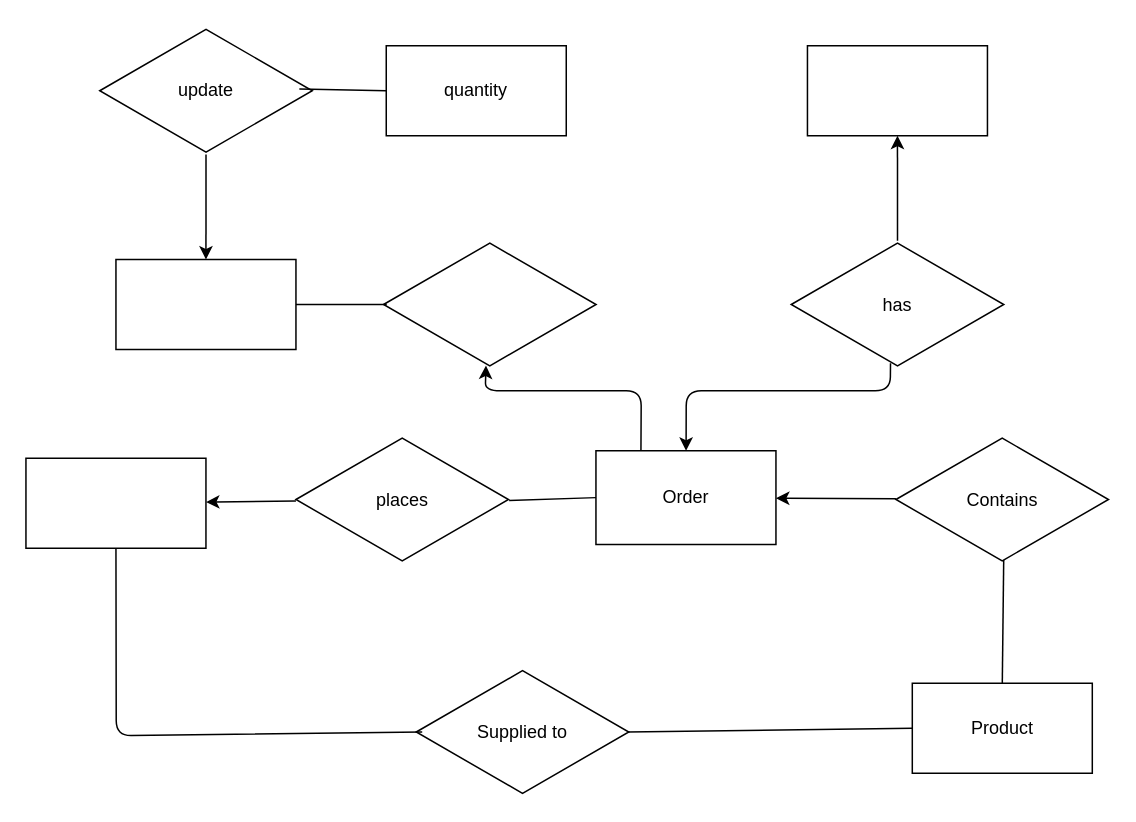
Some shapes in this 1136 by 822 pixel diagram are drawn without their labels. Each missing label, with the centre of its shape:
Customer: (x=115, y=502)
employee: (x=205, y=304)
manages: (x=489, y=303)
payment: (x=896, y=90)
